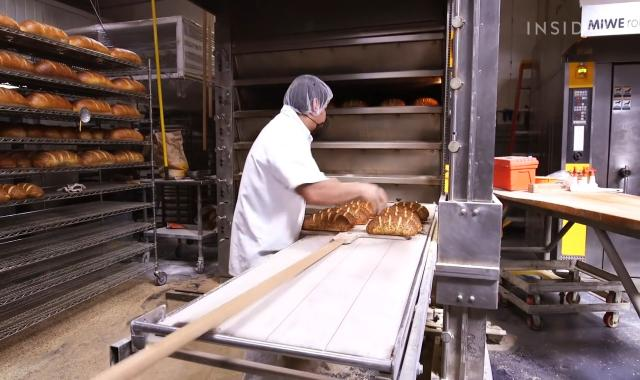hairnet: (285, 74, 333, 116)
